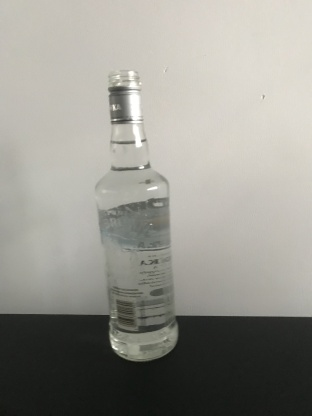nakretka: (105, 70, 144, 124)
